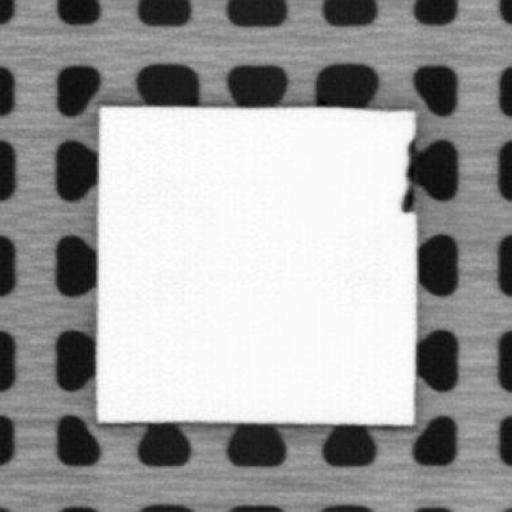DIE_BROKEN: (400, 138, 417, 212)
